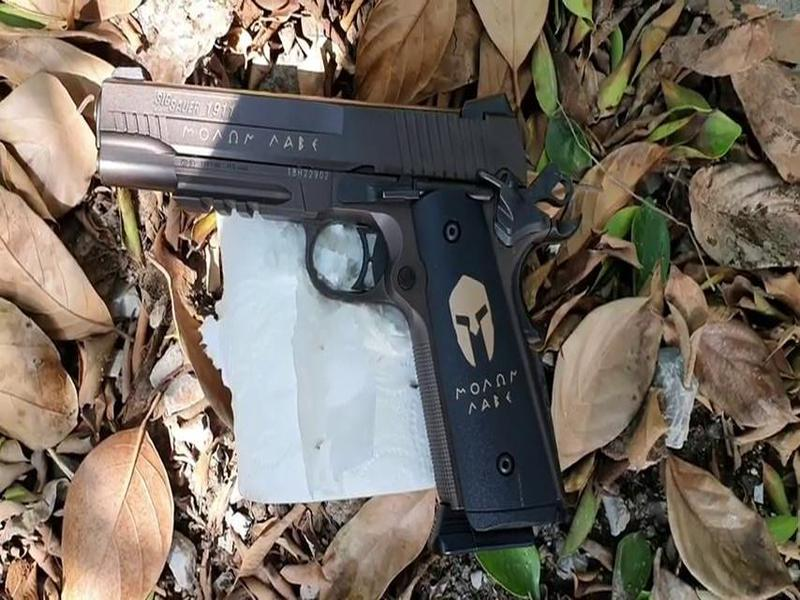Pistola: (69, 69, 615, 537)
